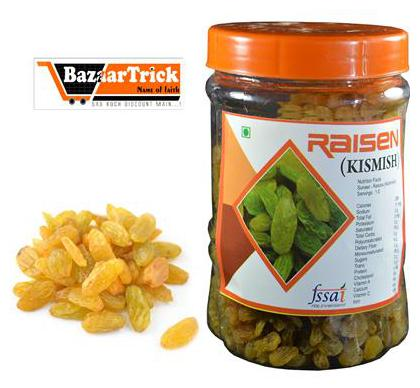JAR: (200, 17, 413, 372)
